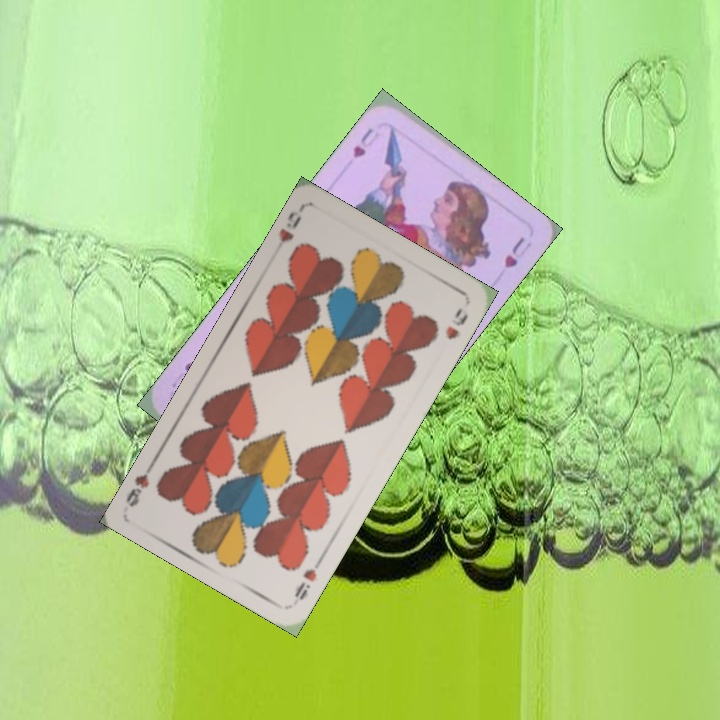H9: (290, 552, 326, 603), (275, 208, 304, 246)
HU: (348, 124, 382, 161)
